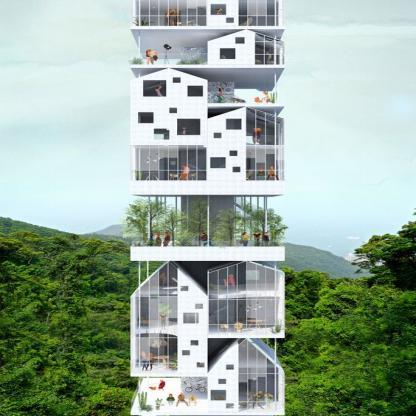Balcony: (131, 241, 285, 251), (131, 400, 209, 412), (132, 53, 207, 65), (207, 92, 277, 103)
Building Outline: (130, 0, 285, 415)
Facade: (129, 0, 285, 415)
Floor Slab: (131, 181, 284, 186), (131, 248, 285, 252), (130, 26, 285, 29), (130, 65, 285, 68), (131, 104, 284, 107), (131, 412, 285, 414), (135, 330, 178, 337), (209, 294, 280, 298), (178, 335, 284, 337), (131, 372, 207, 374), (207, 145, 283, 147), (137, 292, 201, 294)
Glass Wall: (209, 262, 285, 334), (136, 262, 178, 371), (239, 340, 280, 411), (132, 145, 207, 181), (136, 0, 207, 26), (246, 108, 283, 144), (247, 148, 284, 180), (238, 0, 278, 25), (254, 33, 285, 65)
Window: (249, 333, 280, 366), (208, 260, 243, 273), (143, 80, 166, 97), (177, 119, 200, 135), (252, 259, 280, 270), (210, 157, 226, 168), (211, 4, 226, 15), (220, 48, 235, 59), (138, 113, 153, 124), (154, 129, 169, 140), (226, 119, 241, 130), (211, 390, 226, 401), (187, 86, 203, 96), (183, 313, 198, 323), (238, 336, 246, 345), (221, 346, 229, 355), (235, 37, 245, 44), (169, 261, 178, 268), (173, 77, 181, 83), (233, 167, 241, 173), (227, 403, 235, 409), (197, 362, 204, 368), (226, 18, 234, 23), (230, 151, 238, 156), (195, 304, 203, 309), (191, 340, 199, 345), (182, 350, 190, 355), (218, 379, 226, 384), (170, 108, 177, 113), (214, 133, 221, 138), (181, 286, 188, 291), (226, 365, 234, 369)
